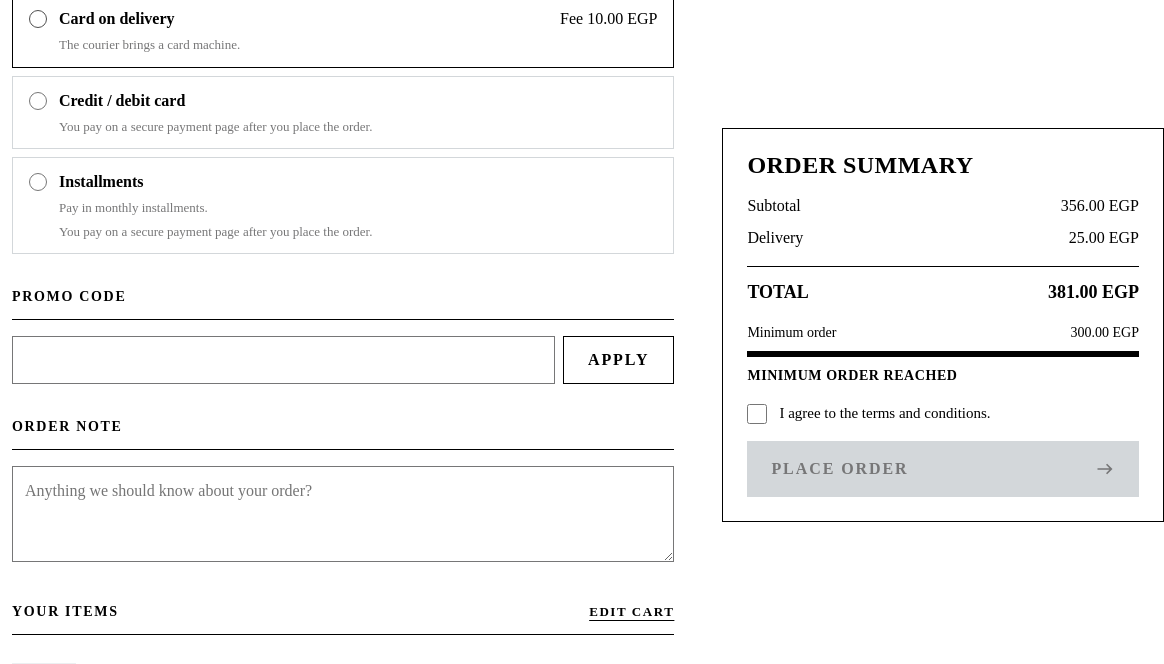
CheckoutView: changing a choice › a refused promo code shows the backend message, is not kept, and does not block the order
(page scrolled)
Type " NOPE " into the field labelled "Promo code" at (283, 360), box [12,336,555,384]
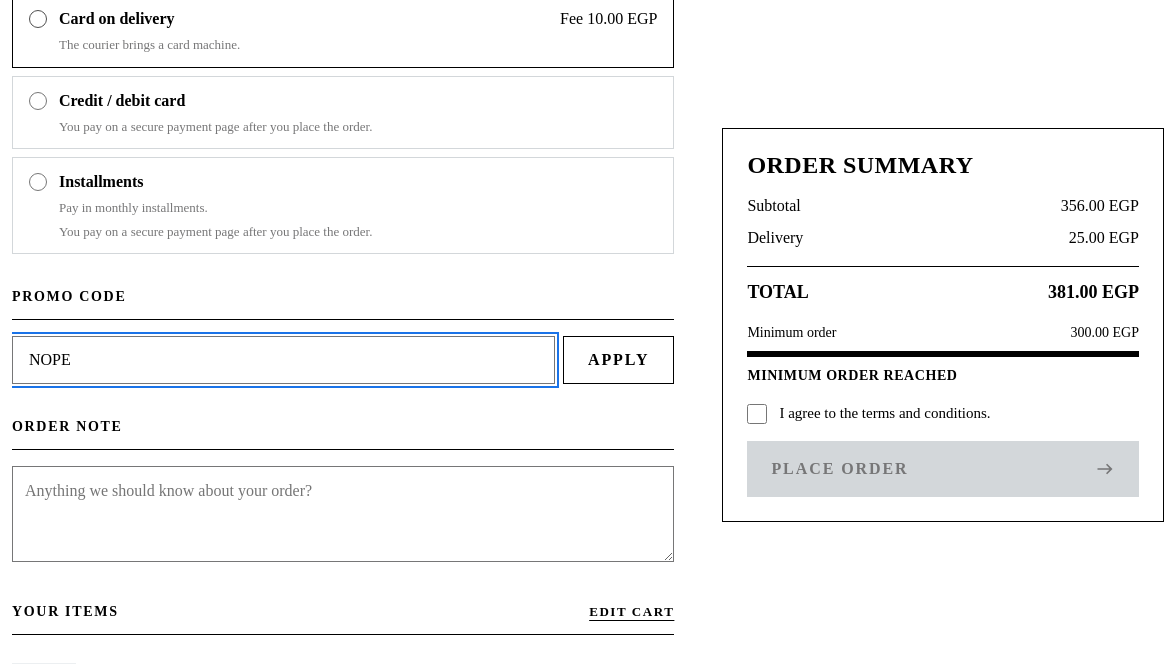
Click the button "Apply" at (619, 360), box [563,336,674,384]
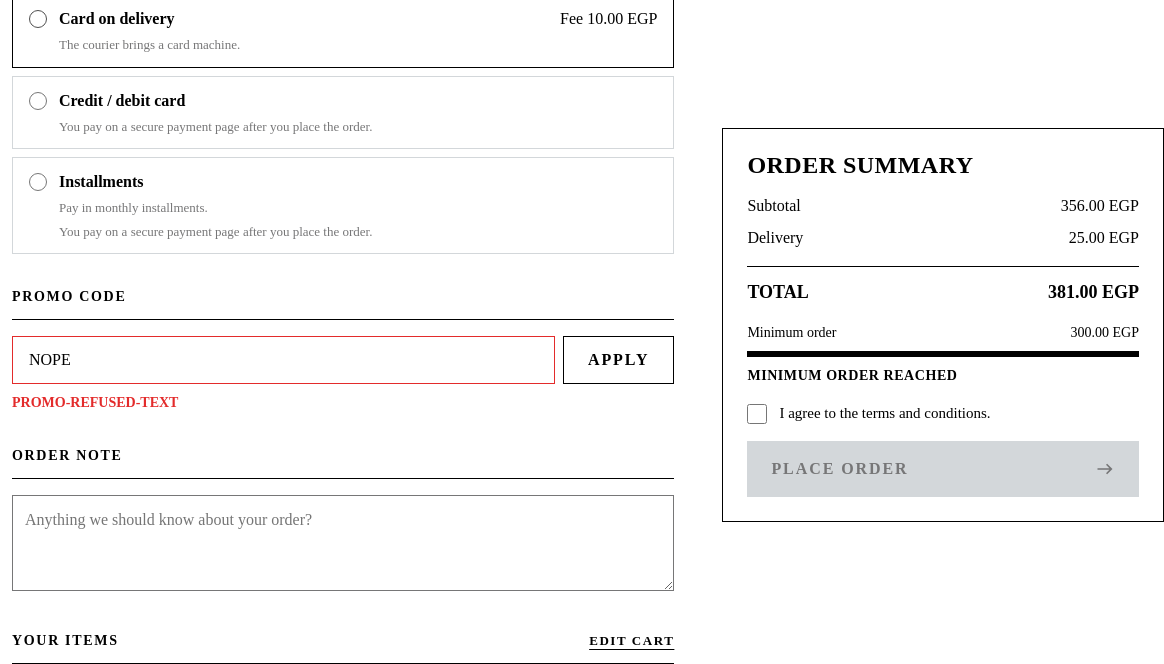
Check: the button "Remove code" is not shown
Check: the message with test id "promo-message" reads "PROMO-REFUSED-TEXT", box [12,395,178,410]
Click the checkbox with test id "checkout-terms" at (757, 414), box [747,404,767,424]
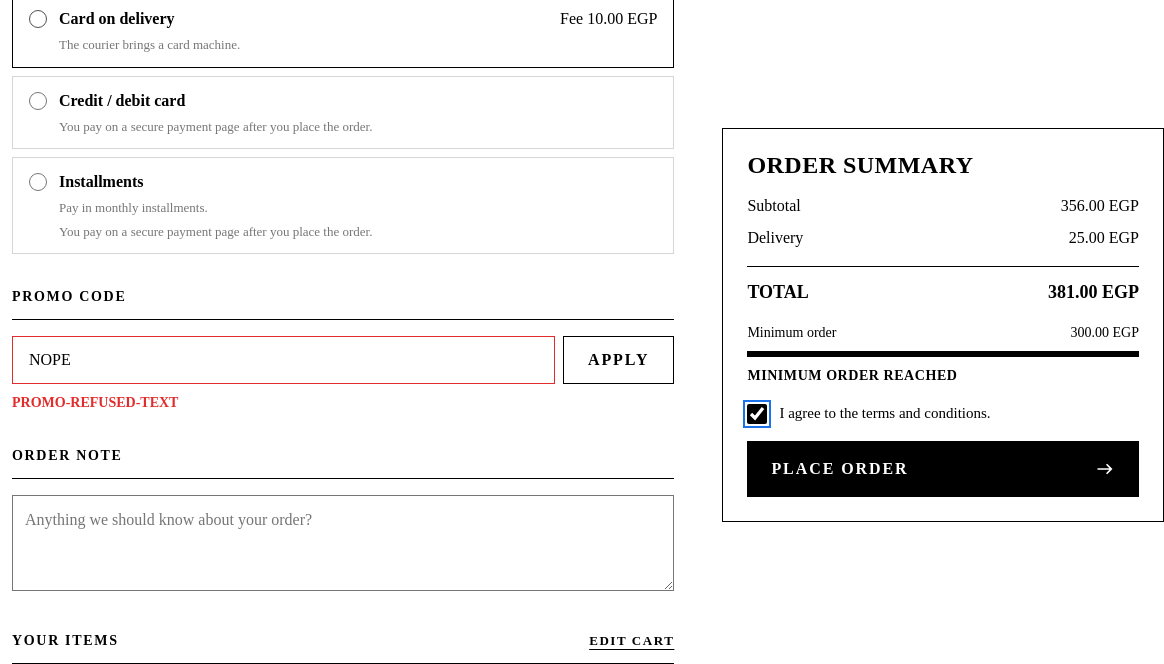
Check: the button with test id "place-order" is enabled, box [747,441,1139,497]
Replace the text in the field labelled "Promo code" with "SAVE10" at (283, 360), box [12,336,555,384]
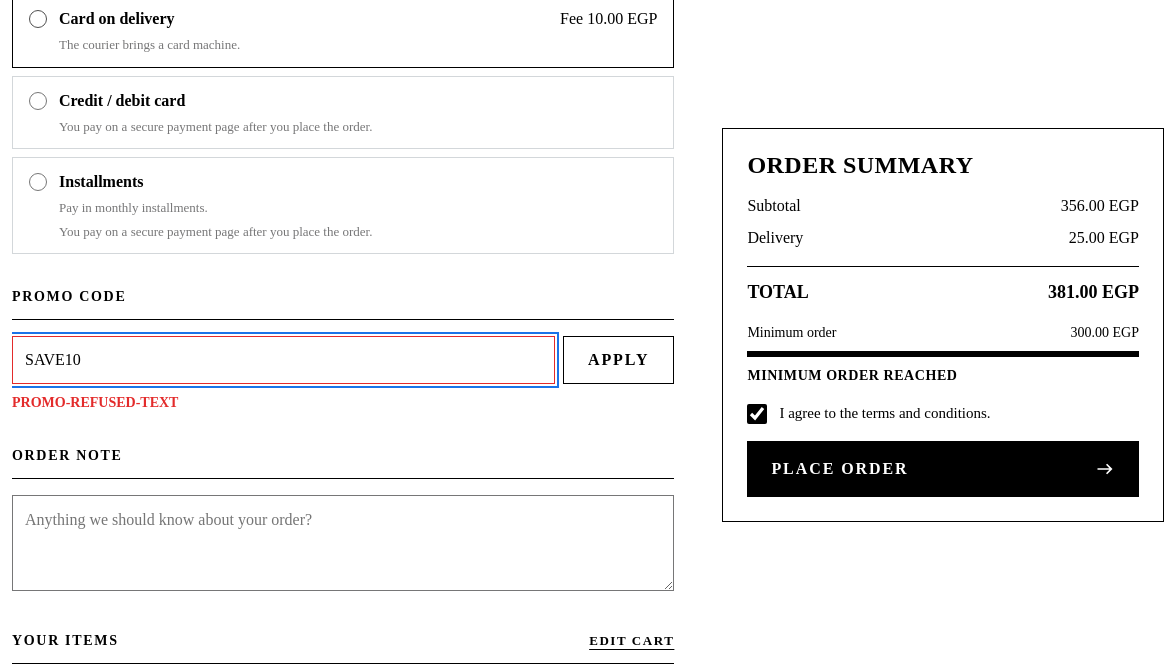
Click the button "Apply" at (619, 360), box [563,336,674,384]
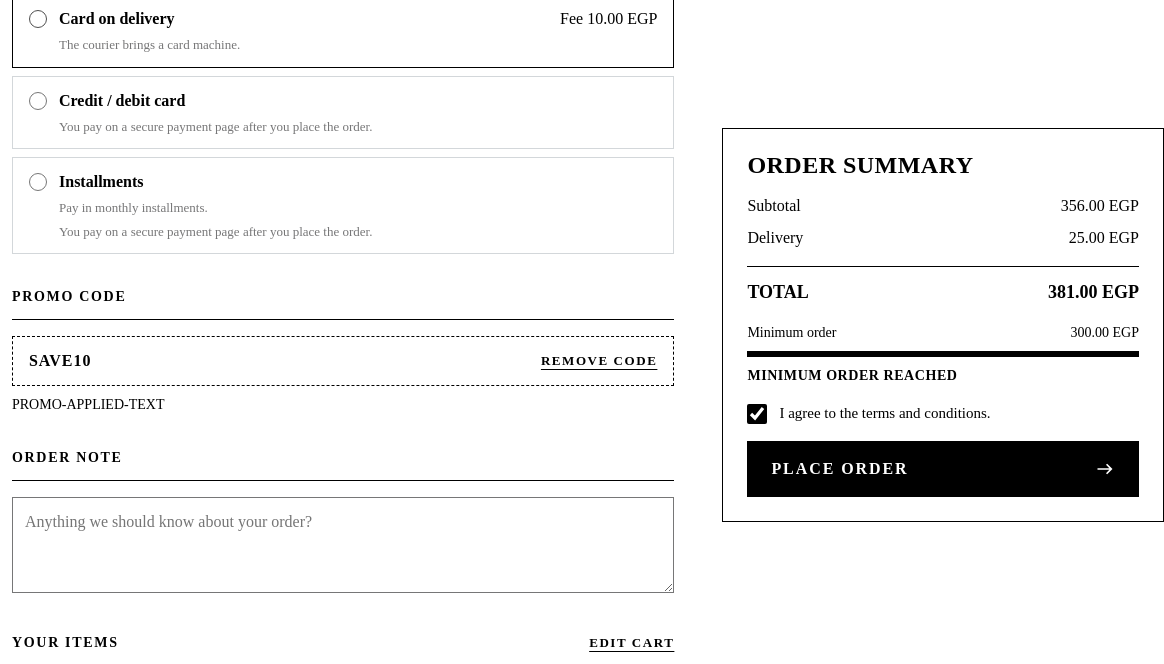
Check: the text with test id "promo-code" reads "SAVE10", box [29,352,91,369]
Check: the message with test id "promo-message" reads "PROMO-APPLIED-TEXT", box [12,397,164,412]
